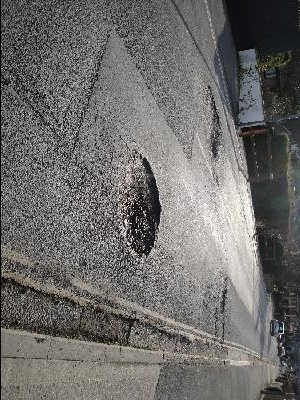pothole: (116, 148, 163, 261), (203, 82, 222, 157), (136, 271, 138, 272)
